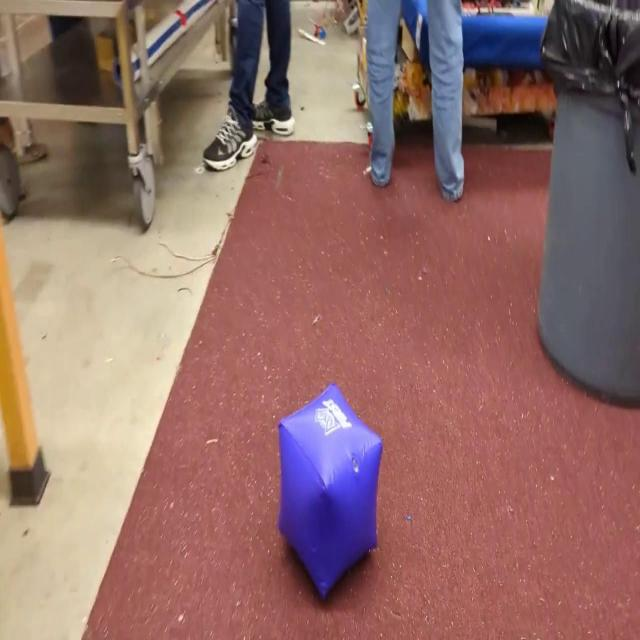frc_cube: (276, 378, 382, 604)
